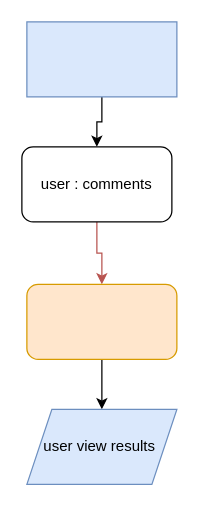
Some shapes in this 199 by 506 pixel diagram are drawn without their labels. Each missing label, with the centre of its shape:
bot answer with predefined questions only: point (101, 321)
Chatbot working: point (101, 59)
